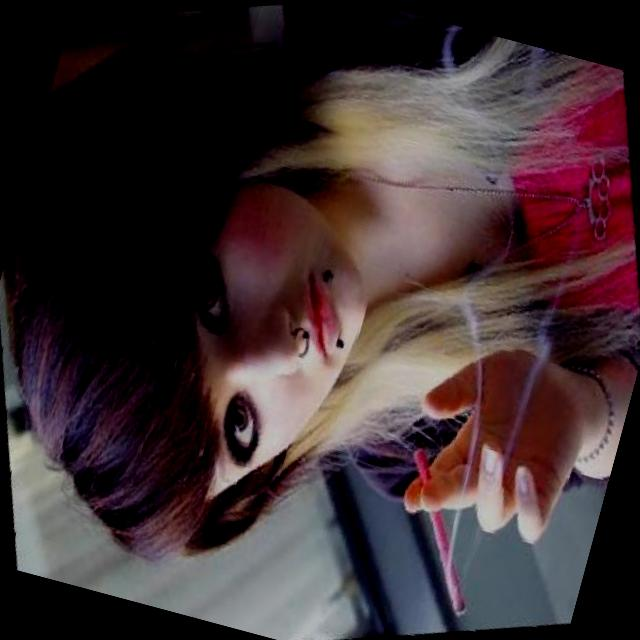smoke: (364, 424, 518, 638)
